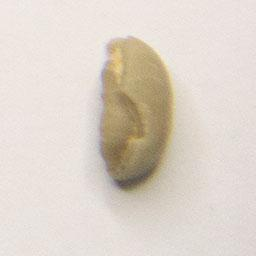defect: (93, 30, 176, 190)
